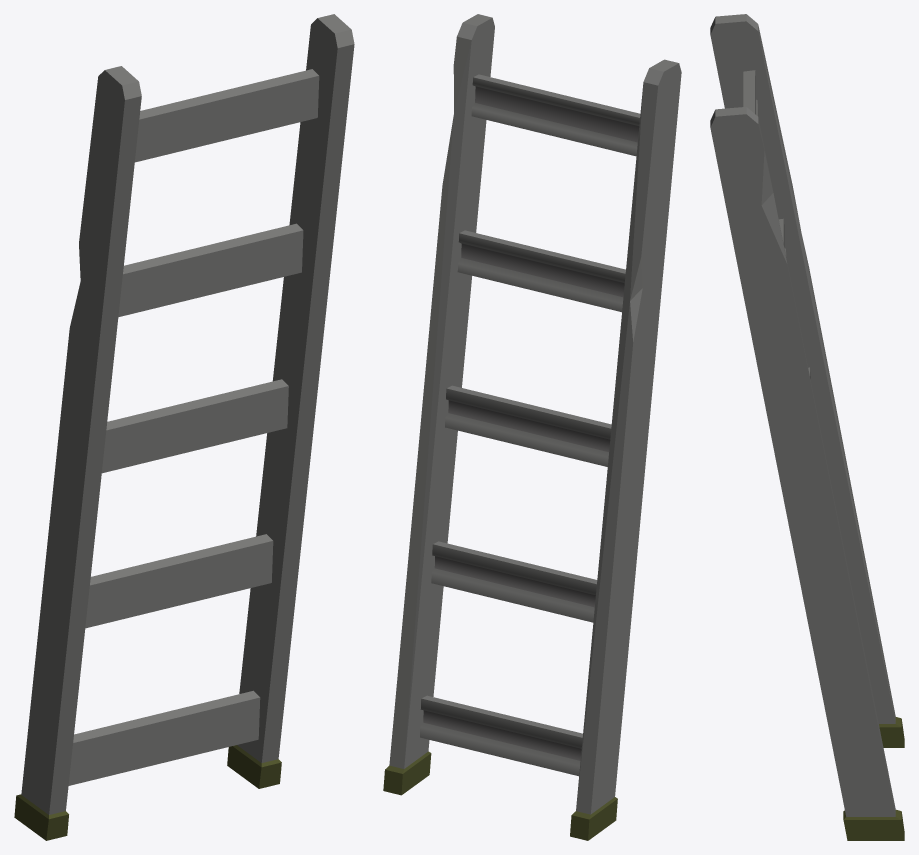
Rendered from SM_Prop_Ladder_Folding_Legs_01.fbx.
The picture shows the model from 3 angles, left to right: view 1: azimuth 30°, elevation 25°; view 2: azimuth 150°, elevation 25°; view 3: azimuth 270°, elevation 25°; orthographic projection. The views are drawn at different scales.
Visible parts, largest first — view 1: SM_Prop_Ladder_Folding_Legs_01; view 2: SM_Prop_Ladder_Folding_Legs_01; view 3: SM_Prop_Ladder_Folding_Legs_01.
Part boxes in pixels (left/top/right/bottom): SM_Prop_Ladder_Folding_Legs_01: left=14, top=14, right=354, bottom=840; SM_Prop_Ladder_Folding_Legs_01: left=383, top=14, right=681, bottom=840; SM_Prop_Ladder_Folding_Legs_01: left=710, top=14, right=904, bottom=840.
Size of the model in its own units: 66.66 by 221 by 53.65.
